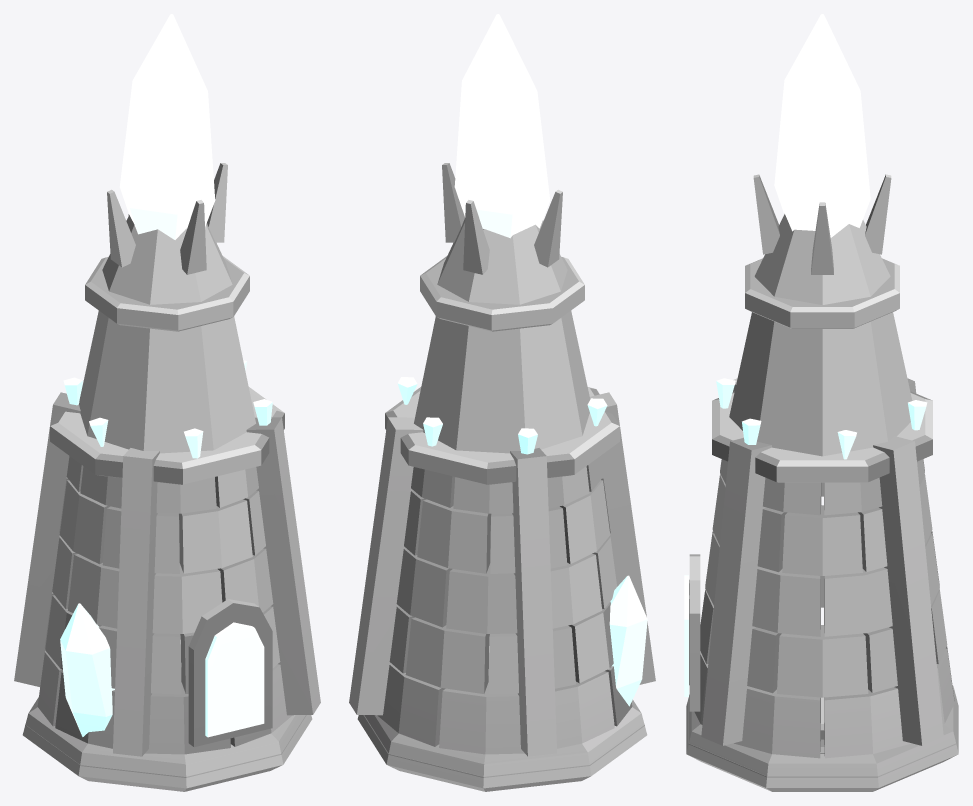
File: ice_lance.glb
The picture shows the model from 3 angles, left to right: view 1: azimuth 30°, elevation 25°; view 2: azimuth 150°, elevation 25°; view 3: azimuth 270°, elevation 25°; orthographic projection.
Parts seen in each view (by area): view 1: ice_lance.001; view 2: ice_lance.001; view 3: ice_lance.001.
Boxes of the visible parts, <box> form: ice_lance.001: <box>14,14,320,791</box>; ice_lance.001: <box>349,14,655,791</box>; ice_lance.001: <box>684,14,958,791</box>.
Bounding box in the file's own units: 1.1 × 3.16 × 1.08.
